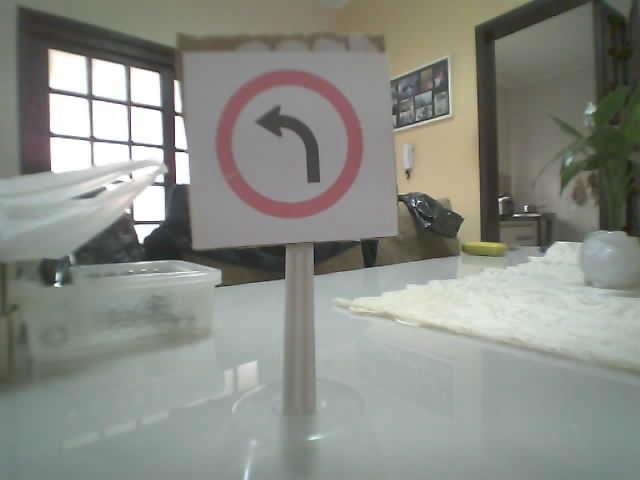R-25a_esquerda: (215, 68, 365, 219)
